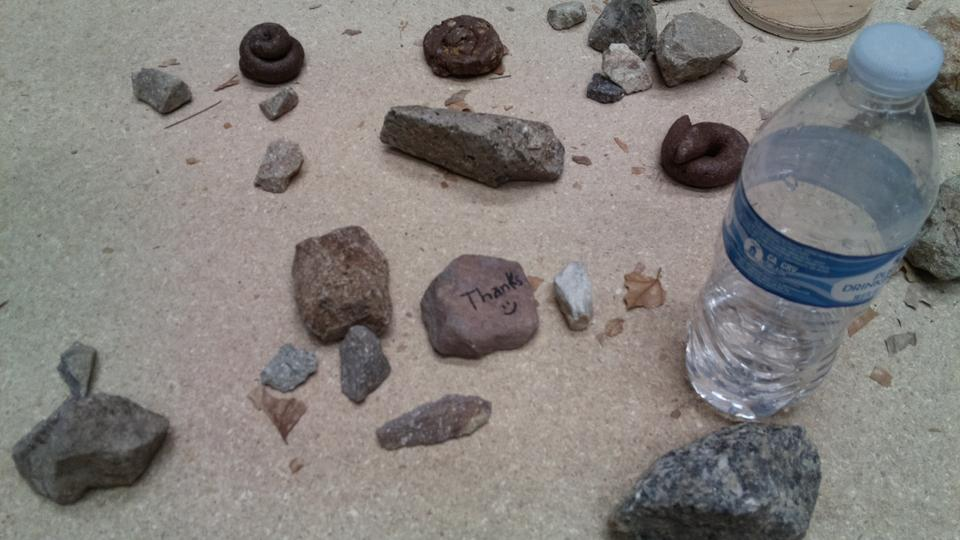poop: (659, 114, 752, 192), (421, 14, 506, 81), (236, 18, 306, 86)
